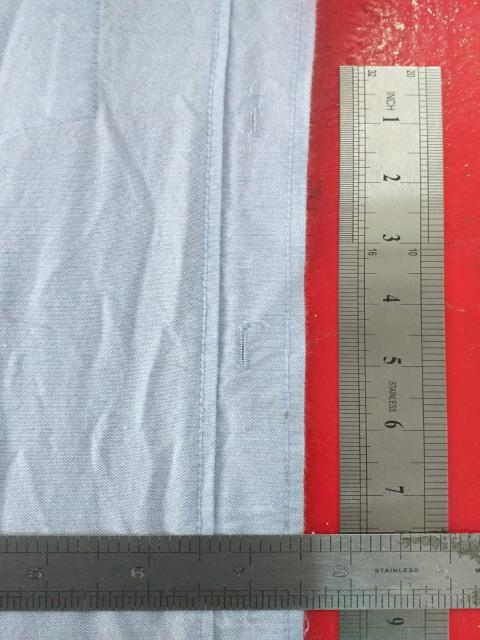Dirty_mark: (280, 408, 296, 424)
